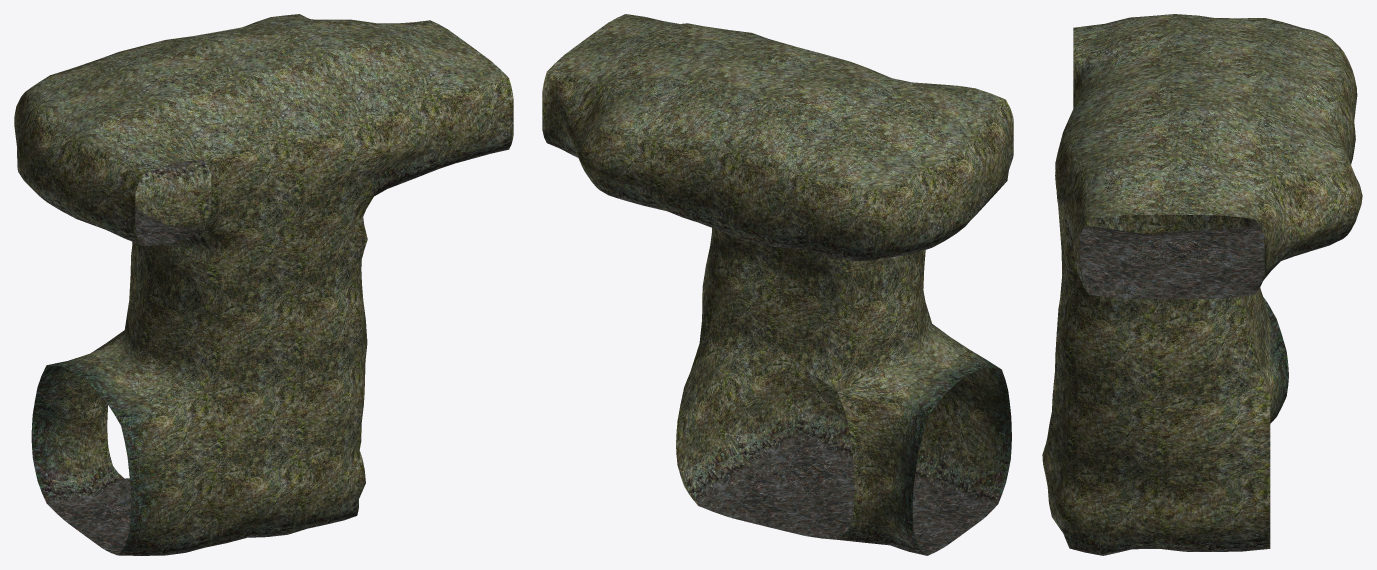
File: thm_all_cave_s03_damprock_mirror_r20_r20.fbx
The picture shows the model from 3 angles, left to right: view 1: azimuth 30°, elevation 25°; view 2: azimuth 150°, elevation 25°; view 3: azimuth 270°, elevation 25°; orthographic projection. The views are drawn at different scales.
Parts seen in each view (by area): view 1: mesh_node; view 2: mesh_node; view 3: mesh_node.
Part boxes in pixels (bbox=[...]): mesh_node: bbox=[14, 14, 513, 555]; mesh_node: bbox=[542, 14, 1013, 555]; mesh_node: bbox=[1042, 14, 1362, 555].
Size of the model in its own units: 43.02 by 43.8 by 27.66.
